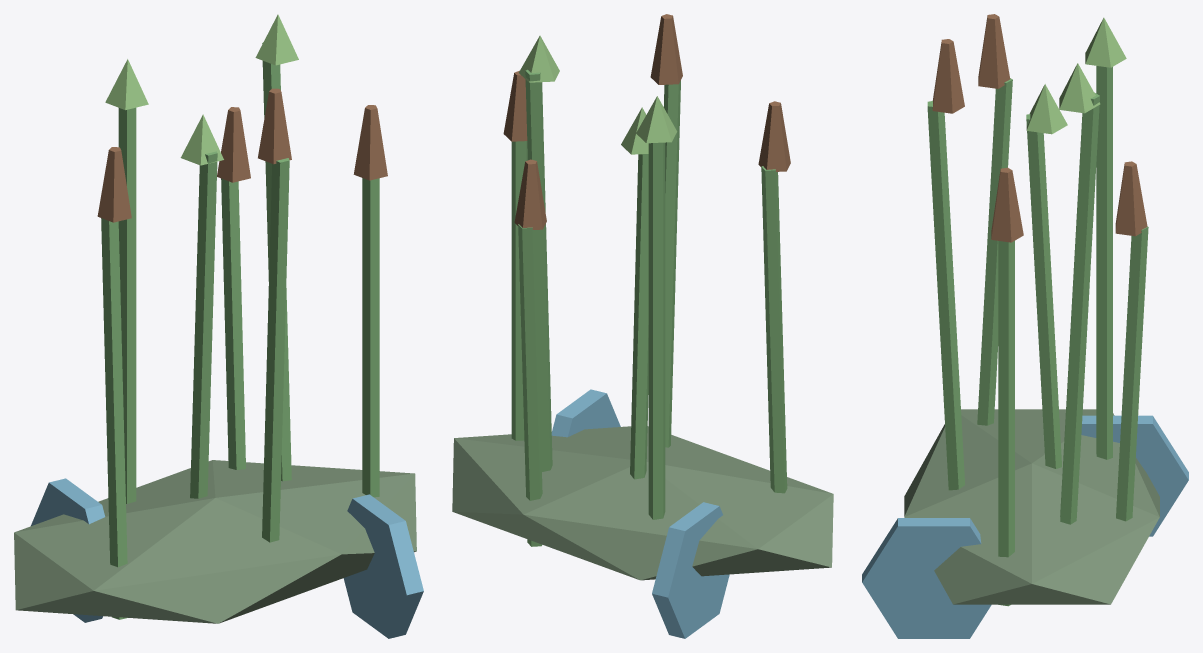
The model's file is swamp_reeds.glb.
The picture shows the model from 3 angles, left to right: view 1: azimuth 30°, elevation 25°; view 2: azimuth 150°, elevation 25°; view 3: azimuth 270°, elevation 25°; orthographic projection. The views are drawn at different scales.
Visible parts, largest first — view 1: mud_mound, water_1, stalk_2, stalk_0, stalk_5, stalk_1, stalk_4, stalk_6, stalk_3, water_0, cattail_0, cattail_4 (+5 smaller); view 2: mud_mound, stalk_1, water_0, stalk_0, stalk_5, stalk_6, stalk_3, stalk_2, stalk_4, water_1, cattail_2, cattail_0 (+5 smaller); view 3: mud_mound, water_1, stalk_3, stalk_2, stalk_1, stalk_5, stalk_4, stalk_6, stalk_0, water_0, cattail_4, cattail_2 (+5 smaller).
Part boxes in pixels (x1,y1,x2,y2): mud_mound: (14,460,416,623); water_1: (343,494,423,638); stalk_2: (262,158,289,542); stalk_0: (101,218,127,619); stalk_5: (190,151,217,498); stalk_1: (118,107,136,503); stalk_4: (362,178,379,497); stalk_6: (221,178,245,469); stalk_3: (262,42,291,481); water_0: (31,478,105,622); cattail_0: (97,147,131,222); cattail_4: (353,105,387,180); mud_mound: (452,426,833,580); stalk_1: (648,142,665,519); water_0: (652,502,729,638); stalk_0: (761,166,787,493); stalk_5: (630,154,648,479); stalk_6: (518,224,542,546); stalk_3: (525,69,552,471); stalk_2: (663,80,680,447); stalk_4: (511,141,527,440); water_1: (551,389,620,437); cattail_2: (650,14,682,84); cattail_0: (758,101,790,171); mud_mound: (904,409,1159,604); water_1: (862,518,991,638); stalk_3: (1060,92,1099,524); stalk_2: (927,101,965,490); stalk_1: (1096,66,1112,459); stalk_5: (1026,114,1061,468); stalk_4: (998,241,1014,606); stalk_6: (1116,226,1148,521); stalk_0: (977,78,1012,425); water_0: (1081,415,1188,536); cattail_4: (991,167,1023,242); cattail_2: (932,39,964,113).
Bounding box in the file's own units: 1.4 × 1.89 × 1.
